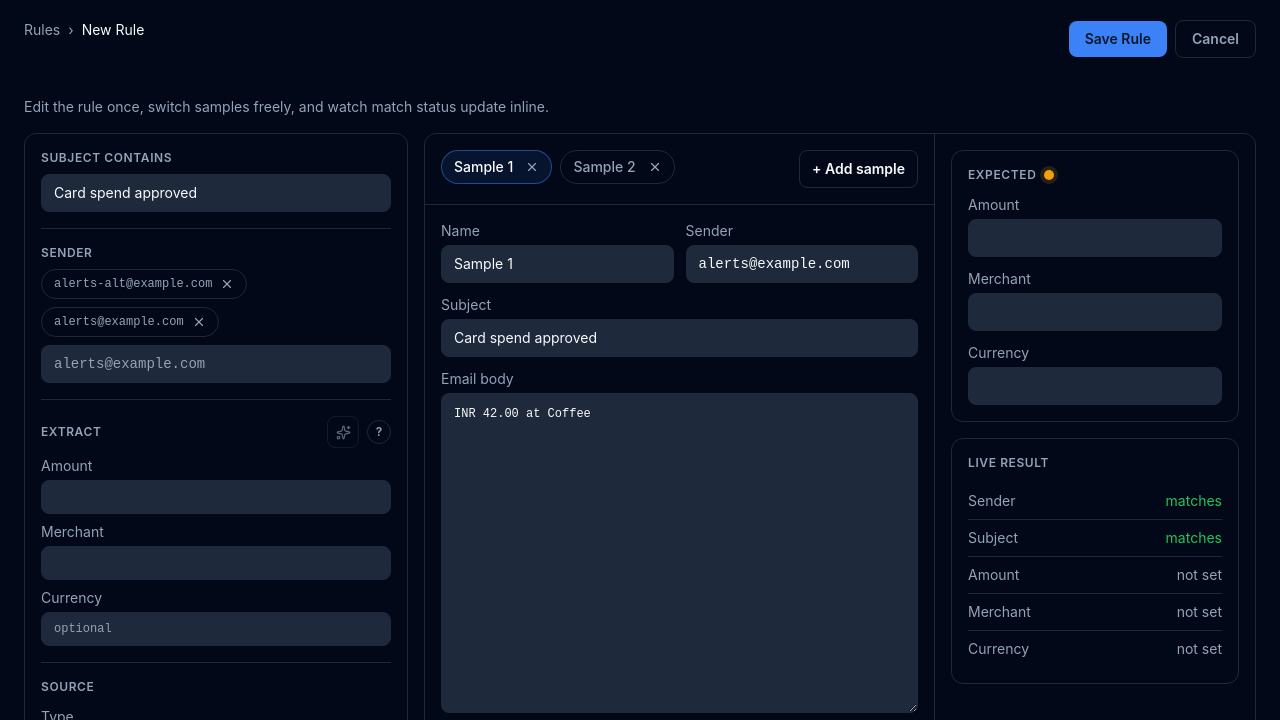
Test: RuleForm diagnostics › loads selected email search results into a new rule workbench
Check: the field named "Subject contains" holds "Card spend approved", box [41,174,391,212]
Check: the button named "Remove alerts@example.com" is shown, box [192,315,206,329]
Click the tab "Sample 2": (604, 167) [561,151,648,183]
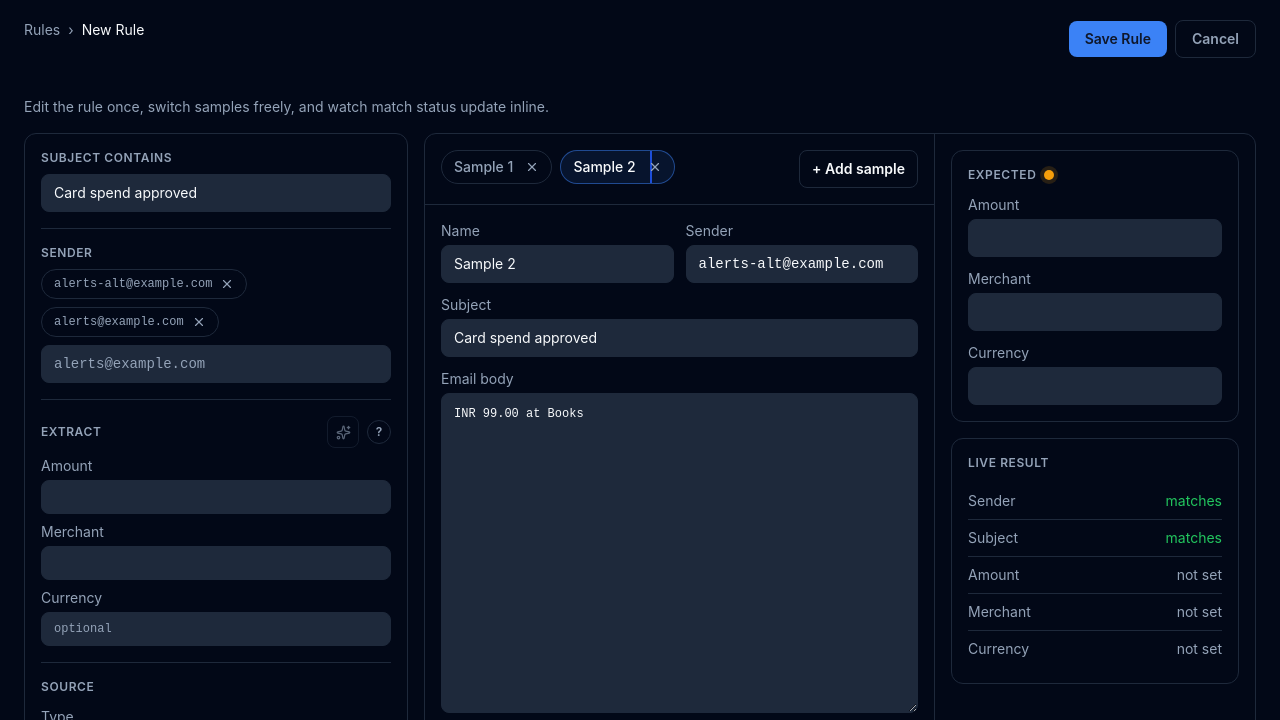
Check: the text box showing "INR 99.00 at Books" is shown, box [441,393,918,713]
